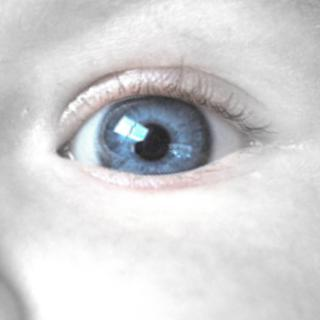pupil: (132, 123, 170, 161)
